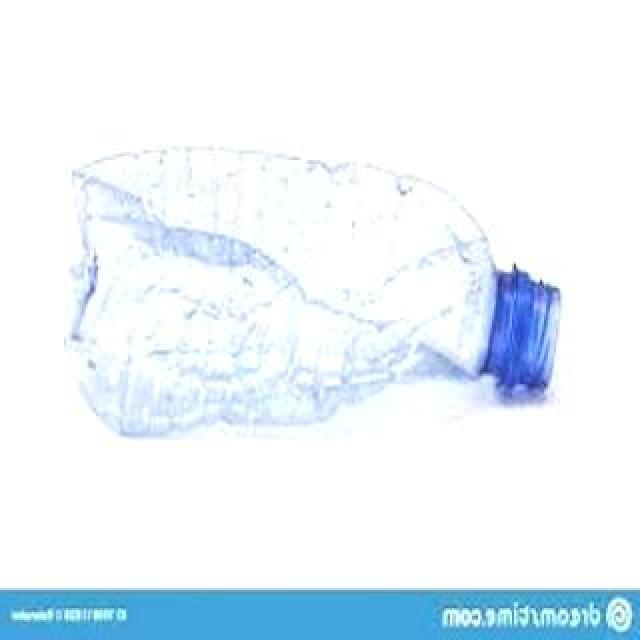Pet_Bottle: (61, 135, 559, 451)
